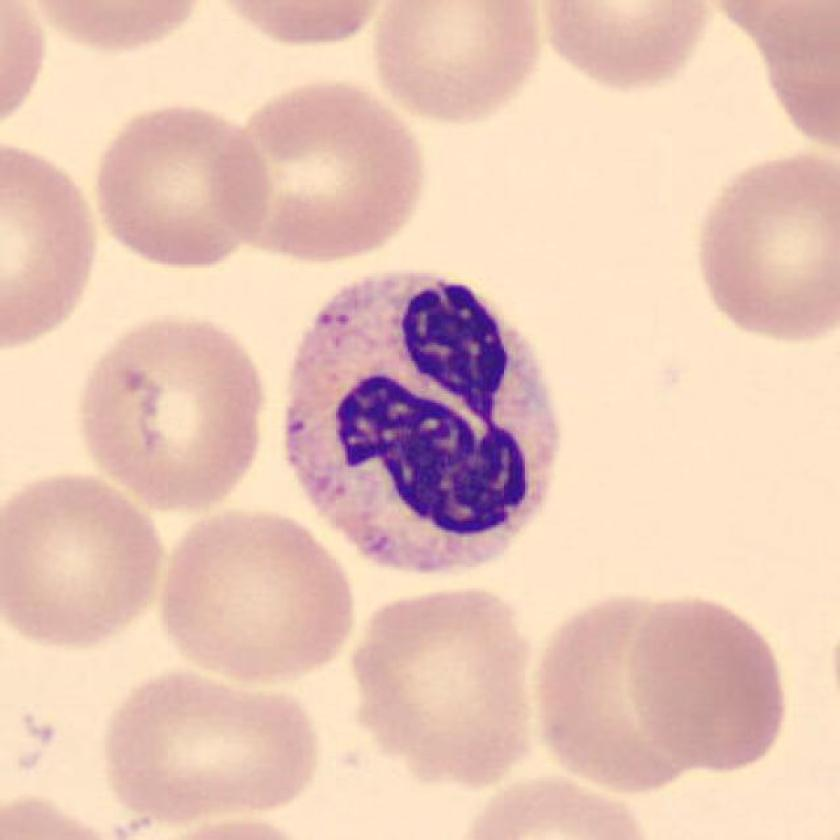neutrophil: (286, 270, 561, 575)
